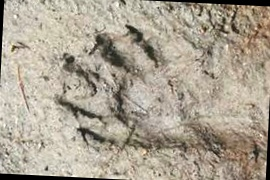fox: (106, 49, 212, 170)
